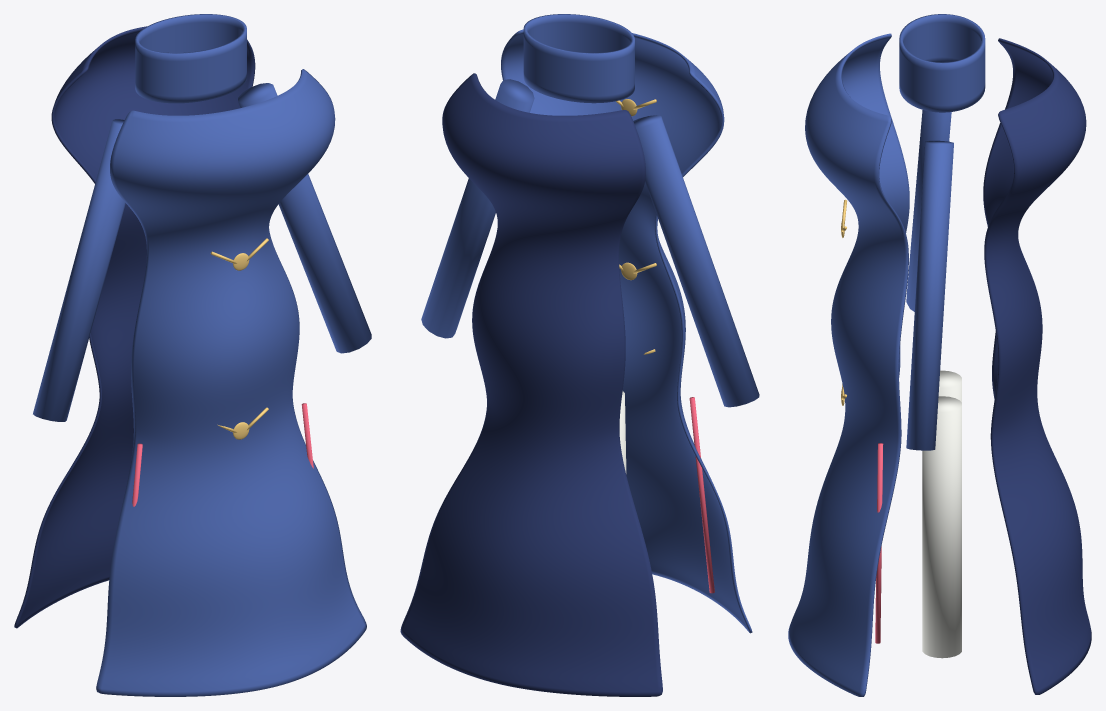
File: BL_AODAI_003.glb
3 renders of one model, left to right at view 1: azimuth 30°, elevation 25°; view 2: azimuth 150°, elevation 25°; view 3: azimuth 270°, elevation 25°, orthographic.
Visible parts, largest first — view 1: front ao dai panel, back ao dai panel, silk sleeve, structured high collar, silk sleeve.001; view 2: back ao dai panel, front ao dai panel, silk sleeve, structured high collar, silk sleeve.001, side slit piping; view 3: front ao dai panel, back ao dai panel, ivory trouser leg.001, silk sleeve.001, structured high collar, silk sleeve, side slit piping.002, ivory trouser leg.
Part boxes in pixels (x1,y1,x2,y2): front ao dai panel: [96, 69, 366, 696]; back ao dai panel: [14, 26, 255, 628]; silk sleeve: [33, 119, 125, 421]; structured high collar: [135, 14, 246, 103]; silk sleeve.001: [238, 83, 371, 353]; back ao dai panel: [400, 73, 662, 696]; front ao dai panel: [501, 29, 752, 633]; silk sleeve: [633, 115, 759, 407]; structured high collar: [523, 14, 634, 103]; silk sleeve.001: [421, 79, 534, 338]; side slit piping: [689, 397, 714, 593]; front ao dai panel: [788, 33, 909, 696]; back ao dai panel: [983, 38, 1091, 694]; ivory trouser leg.001: [922, 396, 961, 658]; silk sleeve.001: [906, 140, 953, 450]; structured high collar: [899, 14, 985, 112]; silk sleeve: [906, 110, 951, 311]; side slit piping.002: [875, 443, 883, 643]; ivory trouser leg: [938, 370, 961, 402].
Bounding box in the file's own units: 1.44 × 2.45 × 1.13.
